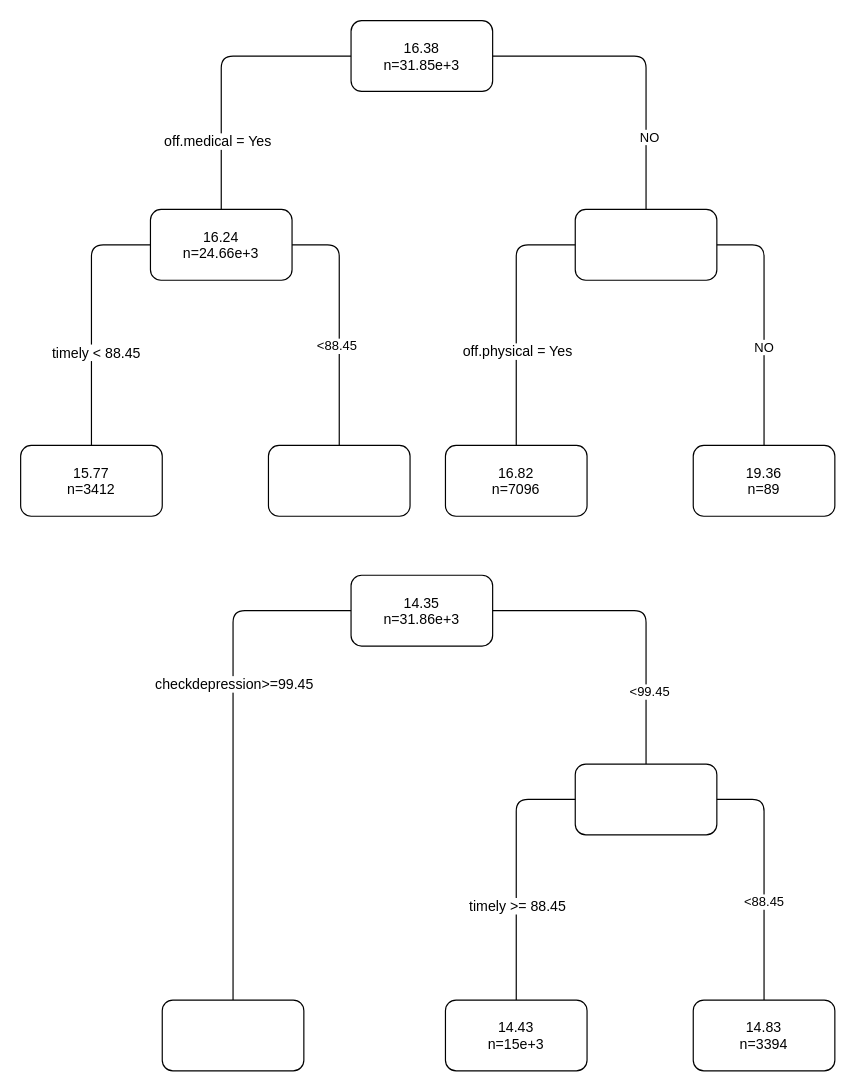
Image size: 855x1092. Some labels were removed from this diagram. Each missing label, with the centre of its shape:
14.14 n=13.47e+3: point (232, 1035)
14.5 n=18.39e+3: point (645, 799)
16.31 n=21.25e+3: point (338, 480)
16.85 n=7185: point (645, 244)
